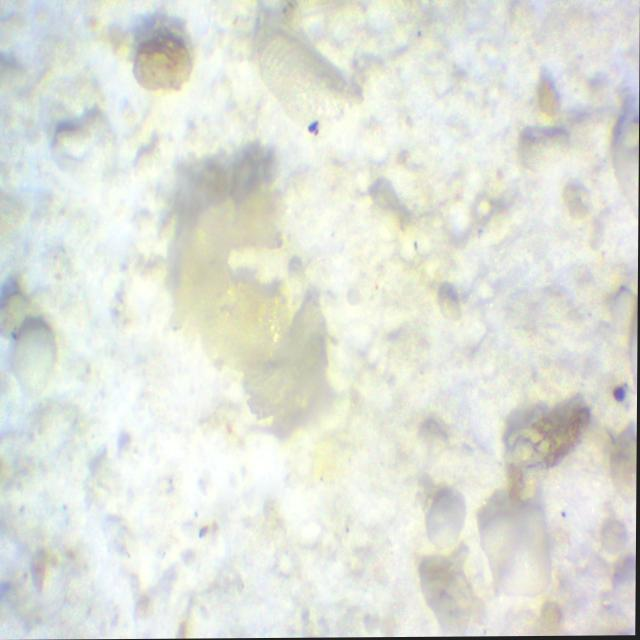microplastic: (178, 193, 327, 426)
